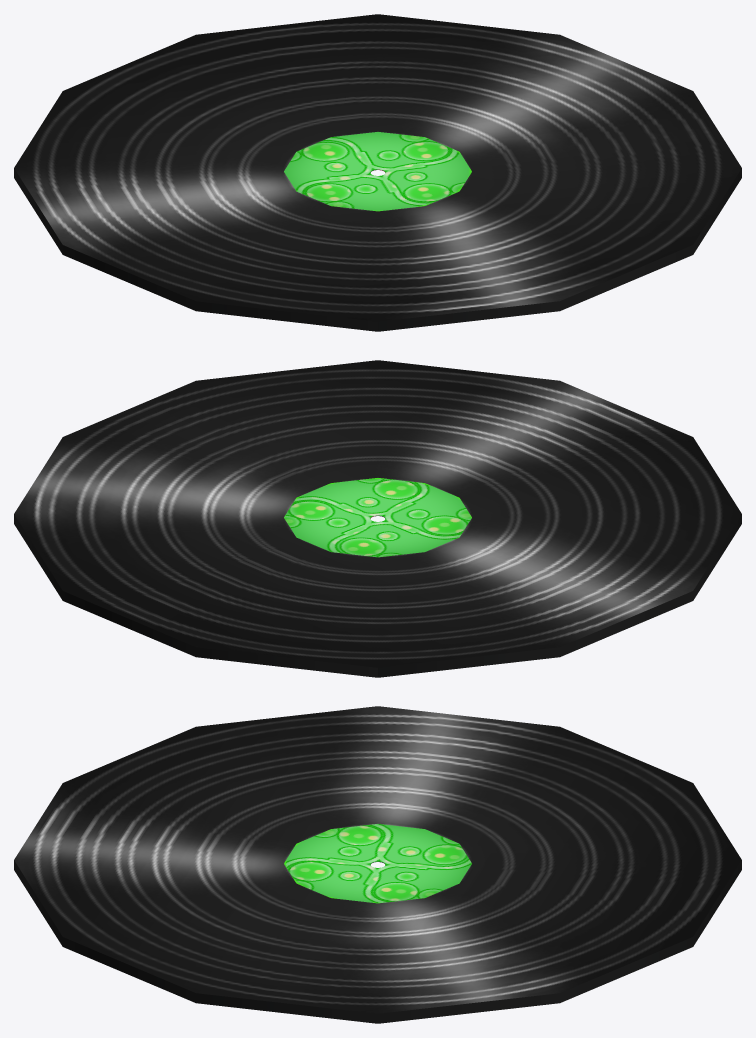
The model's file is Vinyl_08.FBX.
The picture shows the model from 3 angles, top to bottom: view 1: azimuth 30°, elevation 25°; view 2: azimuth 150°, elevation 25°; view 3: azimuth 270°, elevation 25°; orthographic projection.
Visible parts, largest first — view 1: Vinyl; view 2: Vinyl; view 3: Vinyl.
Part boxes in pixels (x1,y1,x2,y2): Vinyl: [14, 14, 741, 331]; Vinyl: [14, 360, 741, 677]; Vinyl: [14, 706, 741, 1023].
Bounding box in the file's own units: 147 × 2.23 × 147.
